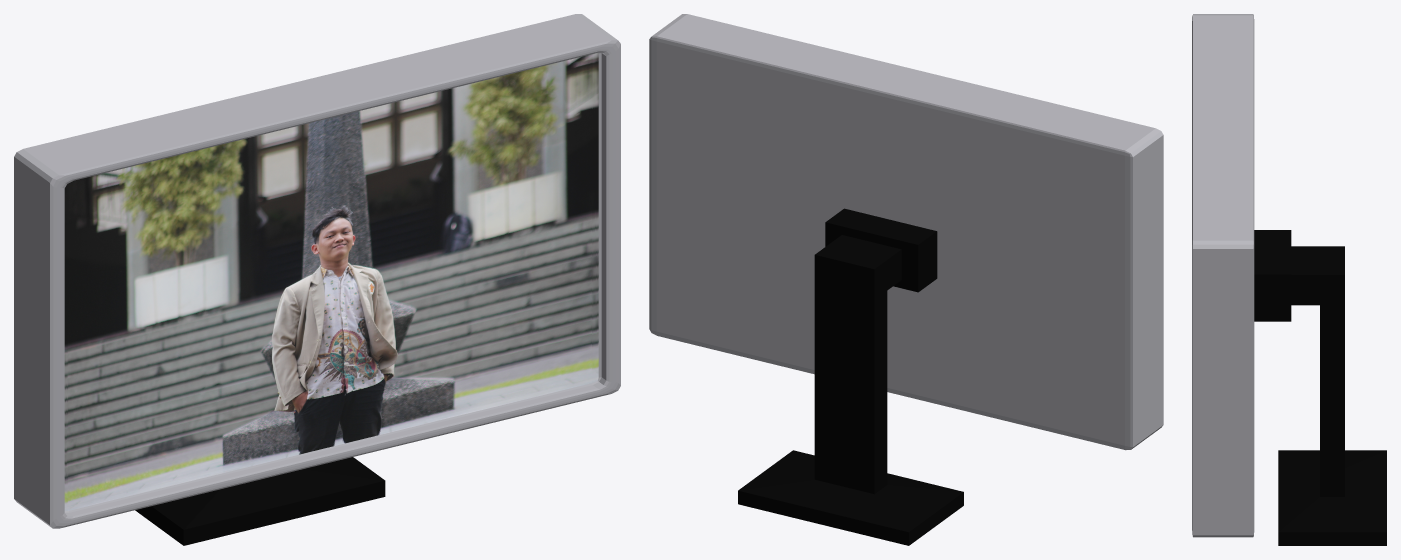
File: gwe.glb
3 renders of one model, left to right at view 1: azimuth 30°, elevation 25°; view 2: azimuth 150°, elevation 25°; view 3: azimuth 270°, elevation 25°, orthographic. The views are drawn at different scales.
Parts seen in each view (by area): view 1: Cube.008; view 2: Cube.008; view 3: Cube.008.
Part boxes in pixels (x1,y1,x2,y2): Cube.008: (14, 14, 620, 545); Cube.008: (649, 14, 1163, 545); Cube.008: (1192, 14, 1386, 545).
Size of the model in its own units: 3.38 by 2.55 by 1.2.
3 materials, 1 textured.
